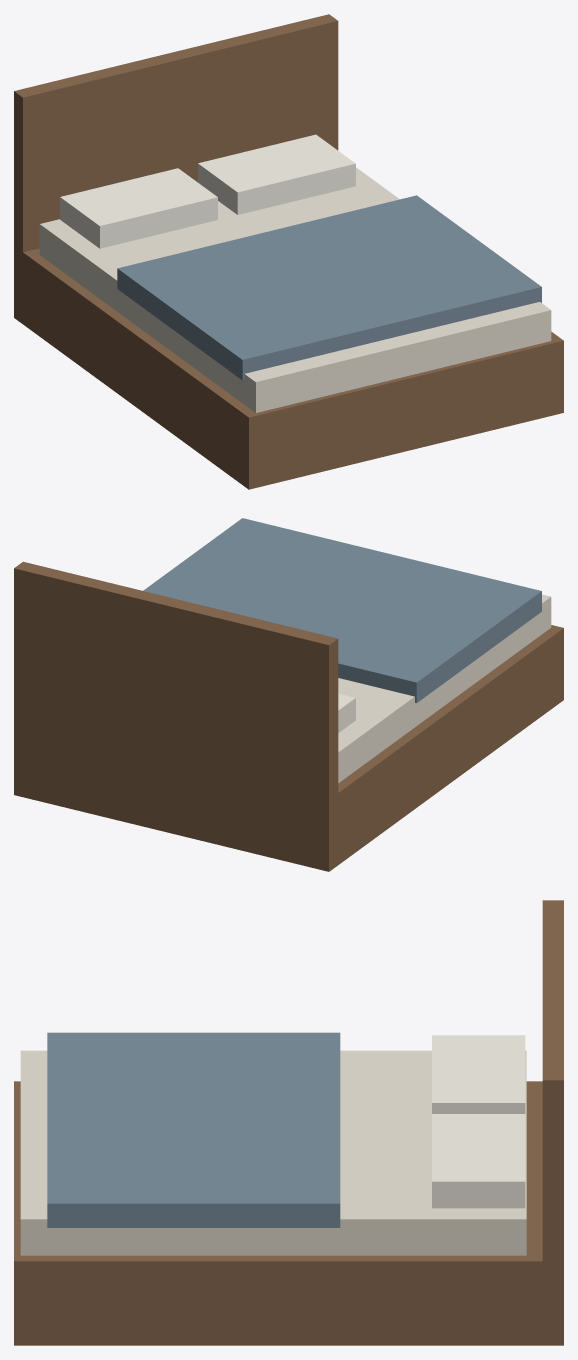
Rendered from bed_double.glb.
The picture shows the model from 3 angles, top to bottom: view 1: azimuth 30°, elevation 25°; view 2: azimuth 150°, elevation 25°; view 3: azimuth 270°, elevation 25°; orthographic projection. The views are drawn at different scales.
Visible parts, largest first — view 1: furniture; view 2: furniture; view 3: furniture.
Part boxes in pixels (x1,y1,x2,y2): furniture: (14,14,563,489); furniture: (14,518,563,871); furniture: (14,900,563,1345).
Bounding box in the file's own units: 1.6 × 1.1 × 2.06.
